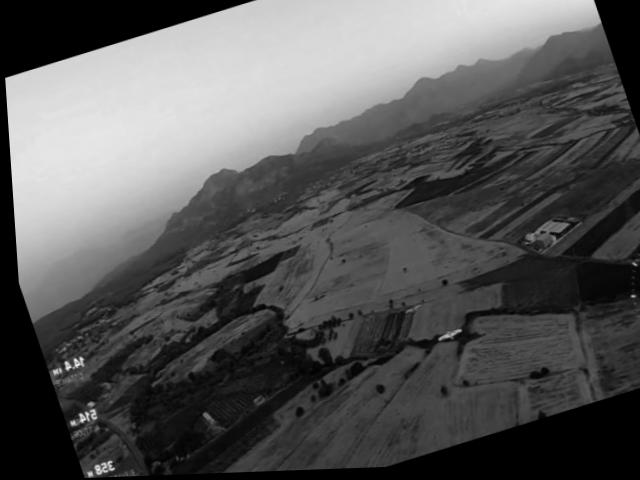hedef: (422, 323, 461, 356)
